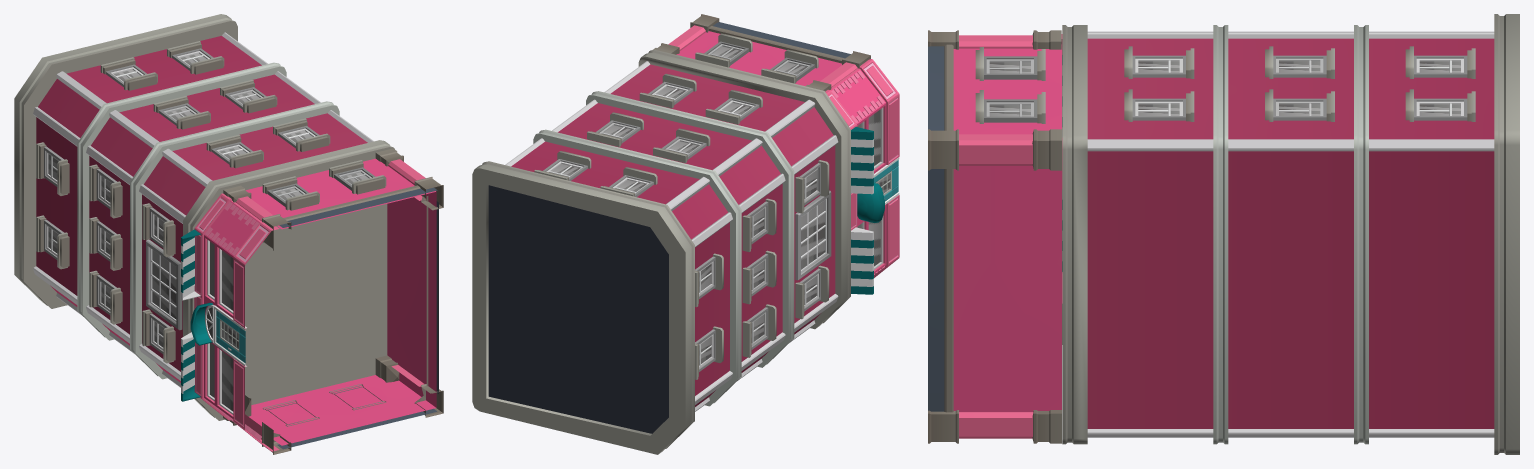
The model's file is Building_3_3_I.glb.
The picture shows the model from 3 angles, left to right: view 1: azimuth 30°, elevation 25°; view 2: azimuth 150°, elevation 25°; view 3: azimuth 270°, elevation 25°; orthographic projection. The views are drawn at different scales.
Parts seen in each view (by area): view 1: Building 3_3_I; view 2: Building 3_3_I; view 3: Building 3_3_I.
Boxes of the visible parts, x1,y1,x2,y2 form: Building 3_3_I: (14, 14, 443, 454); Building 3_3_I: (472, 14, 899, 454); Building 3_3_I: (928, 14, 1519, 454).
Size of the model in its own units: 8.08 by 8.37 by 13.83.
4 materials, 4 textured.
